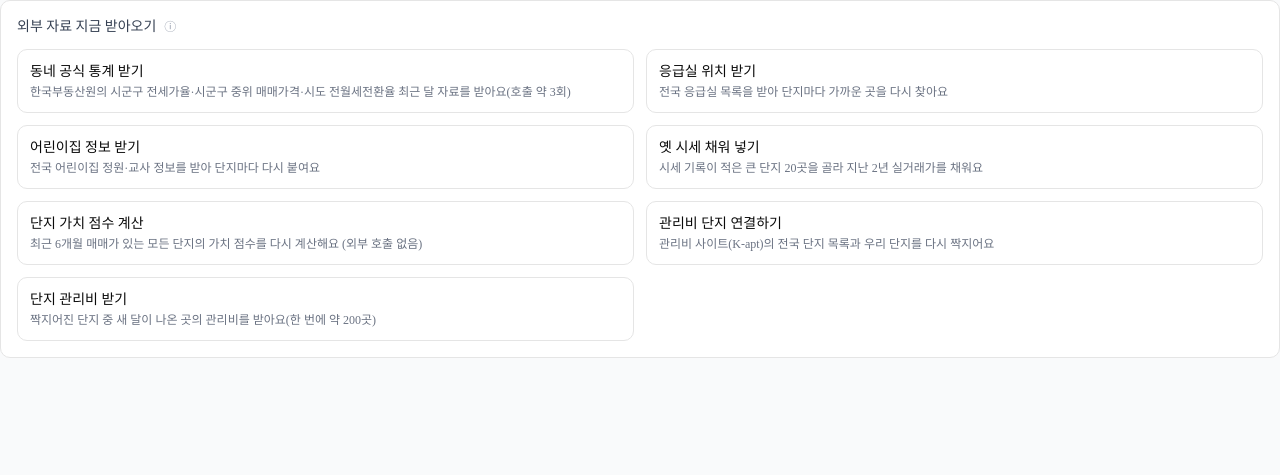
it: CollectorTrigger — 누른 뒤 (세션 420 백그라운드화) › 연결 실패 원문은 쉬운 한 줄로
This screenshot has width=1280, height=475.
Click the button "응급실 위치 받기": (708,72) [646,49,1263,113]
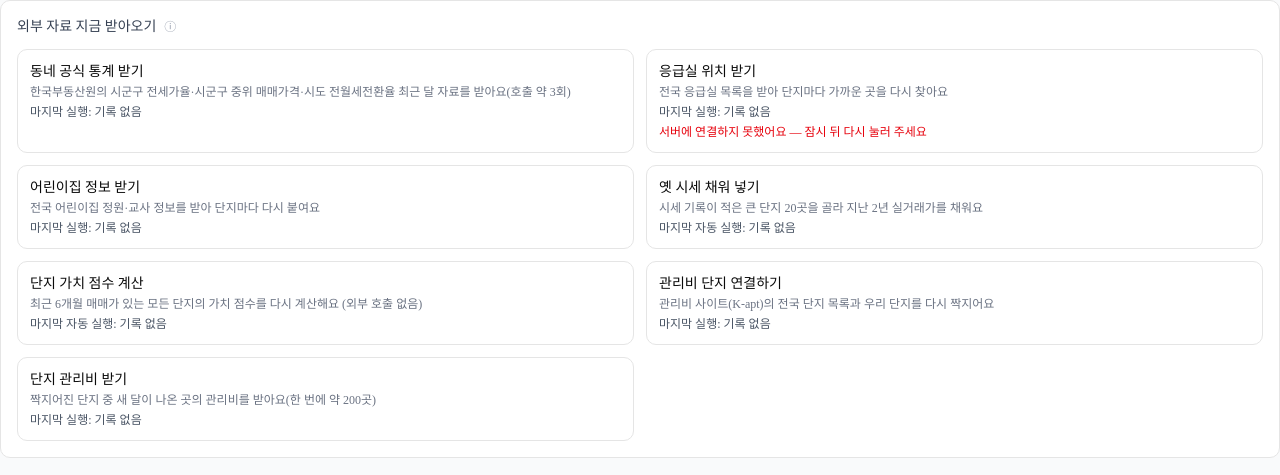
Expected: the text "서버에 연결하지 못했어요 — 잠시 뒤 다시 눌러 주세요" is shown, [659,124,927,140]
